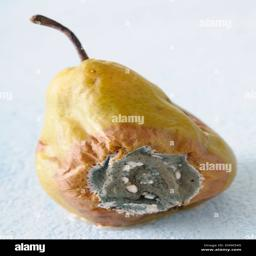Pear Rotten: (21, 3, 240, 227)
